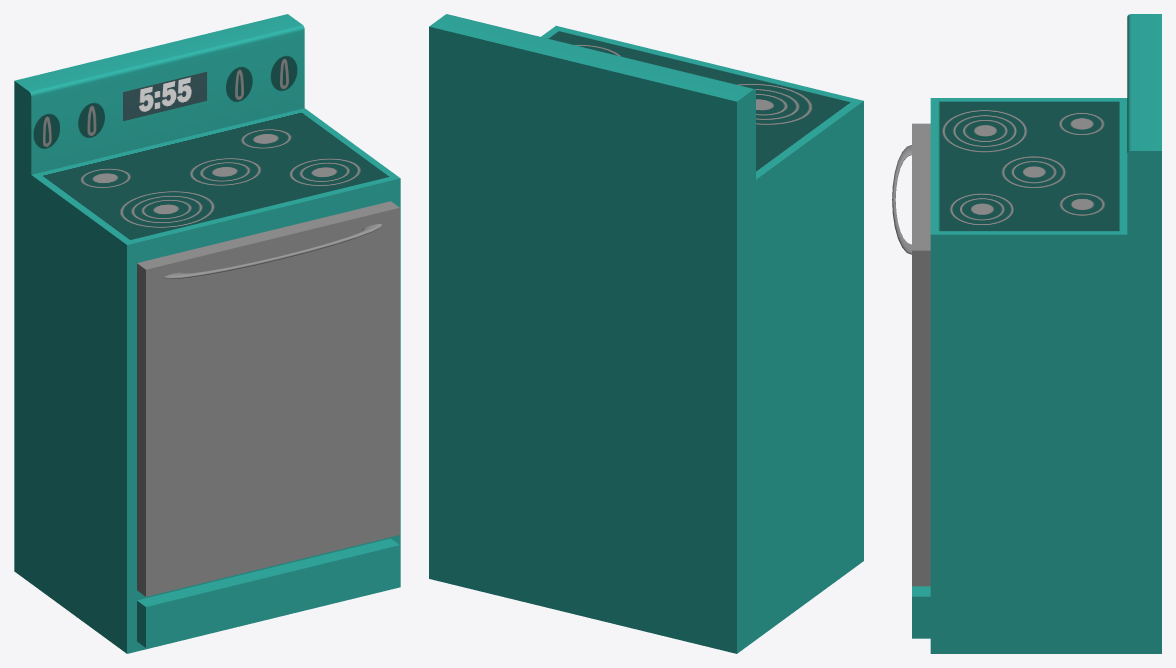
File: Oven.fbx
3 renders of one model, left to right at view 1: azimuth 30°, elevation 25°; view 2: azimuth 150°, elevation 25°; view 3: azimuth 270°, elevation 25°, orthographic. The views are drawn at different scales.
Visible parts, largest first — view 1: Oven, Door; view 2: Oven; view 3: Oven, Door.
Boxes of the visible parts, x1,y1,x2,y2 form: Oven: (14,14,400,653); Door: (137,201,399,596); Oven: (429,14,863,653); Oven: (912,14,1161,653); Door: (892,123,930,586).
Size of the model in its own units: 70 by 120 by 58.31.
2 materials, 1 textured.
